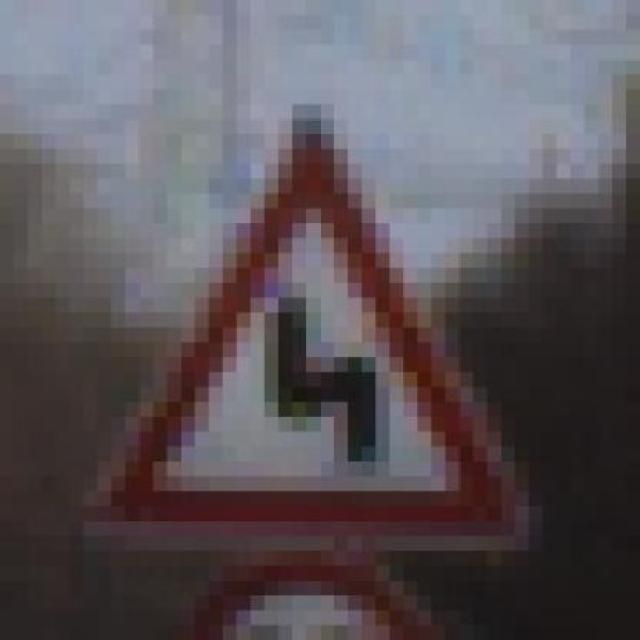Left Zig Zag Traffic: (83, 102, 543, 535)
